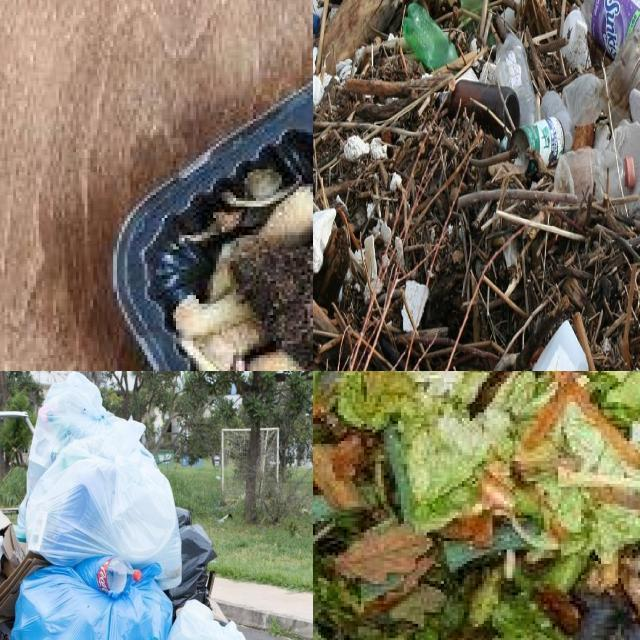Garbage: (313, 0, 640, 371), (313, 371, 640, 640), (0, 373, 246, 640), (110, 81, 313, 371)
Plastic_Bag: (18, 373, 182, 590), (10, 566, 173, 640), (167, 599, 245, 640)
Plastic_bottle: (553, 148, 636, 201), (166, 524, 216, 608), (448, 80, 520, 137), (403, 2, 458, 70), (496, 33, 536, 125), (583, 0, 640, 57), (607, 30, 640, 118), (75, 556, 143, 598), (540, 91, 575, 151), (563, 74, 602, 126), (461, 0, 483, 15)
Thermocol: (533, 322, 589, 371), (615, 124, 640, 222), (313, 209, 334, 276)
Tin_box: (513, 118, 563, 165)
